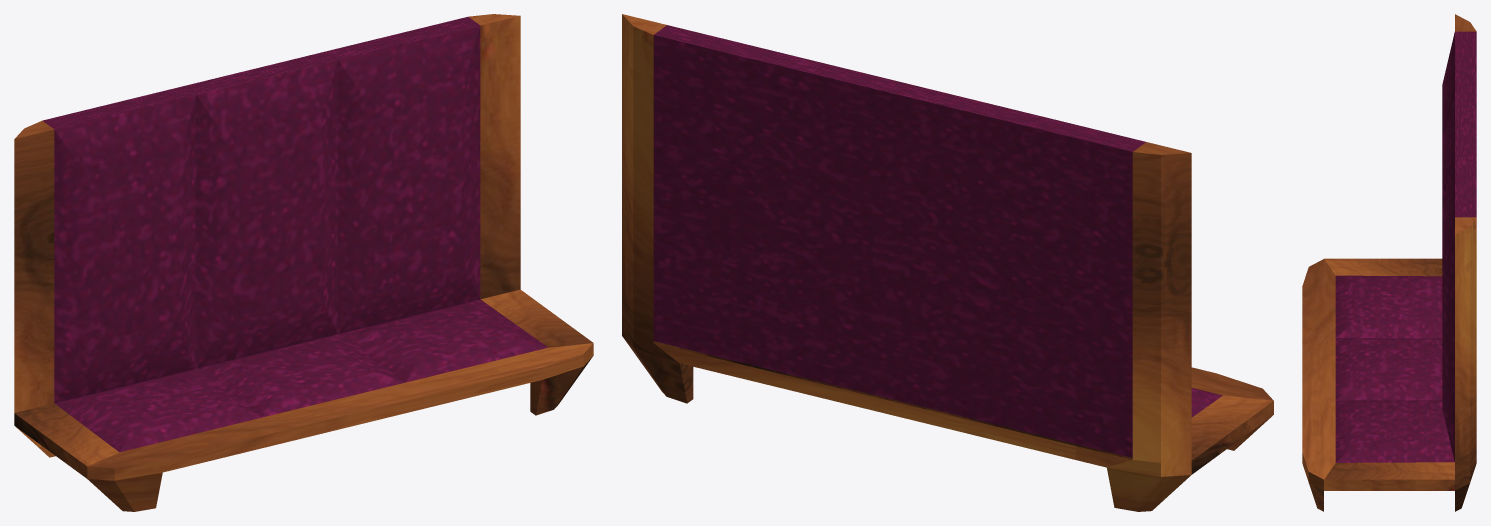
File: UglyBench1.fbx
3 renders of one model, left to right at view 1: azimuth 30°, elevation 25°; view 2: azimuth 150°, elevation 25°; view 3: azimuth 270°, elevation 25°, orthographic. The views are drawn at different scales.
Visible parts, largest first — view 1: SceneWithStuff3:pCube7; view 2: SceneWithStuff3:pCube7; view 3: SceneWithStuff3:pCube7.
Boxes of the visible parts, left/top/right/bottom form: SceneWithStuff3:pCube7: left=14, top=14, right=593, bottom=511; SceneWithStuff3:pCube7: left=622, top=14, right=1273, bottom=511; SceneWithStuff3:pCube7: left=1302, top=14, right=1476, bottom=511.
Bounding box in the file's own units: 1.92 × 1.18 × 0.6398.
Materials: 1 (1 with a texture image).
